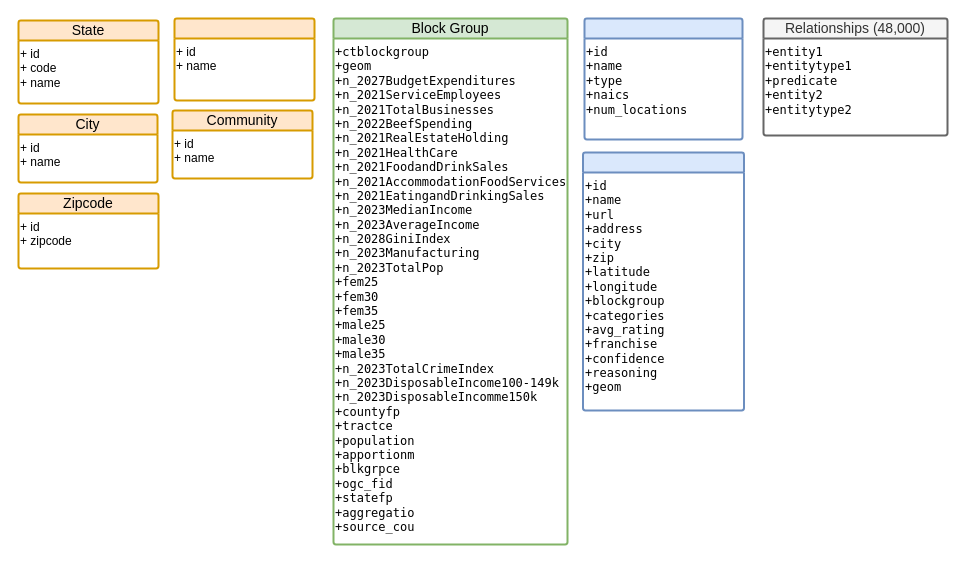
Some shapes in this 965 by 562 pixel diagram are drawn without their labels. The shapes that lost their labels are listed below. From the top down, each one's box as (x1, y1, x2, y2) in pixels, then its label:
(173, 17, 315, 101): County
(583, 17, 743, 140): Business
(582, 151, 744, 411): Business Locations
